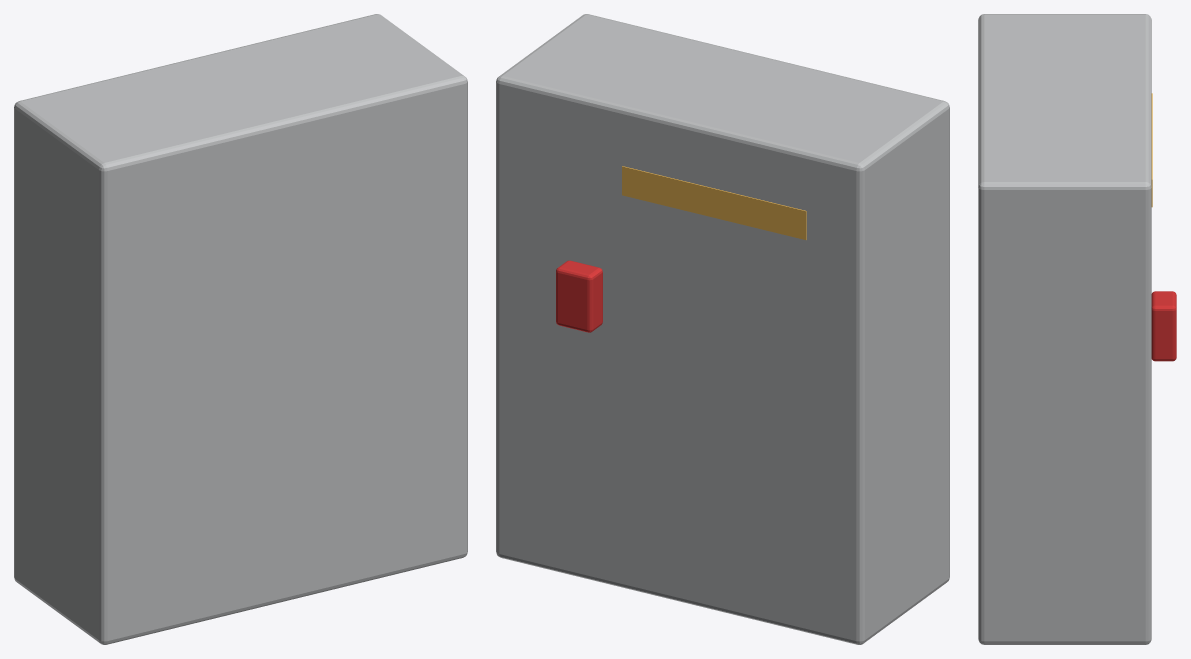
The model's file is generic-combiner-8s.glb.
The picture shows the model from 3 angles, left to right: view 1: azimuth 30°, elevation 25°; view 2: azimuth 150°, elevation 25°; view 3: azimuth 270°, elevation 25°; orthographic projection. The views are drawn at different scales.
Parts seen in each view (by area): view 1: body; view 2: body, label, handle; view 3: body, handle.
Boxes of the visible parts, bbox=[...] form: body: bbox=[14, 14, 467, 644]; body: bbox=[496, 14, 949, 644]; label: bbox=[622, 166, 806, 239]; handle: bbox=[556, 260, 602, 332]; body: bbox=[978, 14, 1151, 644]; handle: bbox=[1151, 291, 1176, 361].
Size of the model in its own units: 0.4 by 0.518 by 0.1945.
